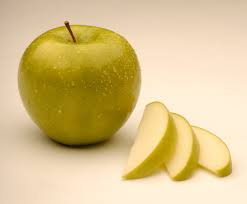apple: (17, 26, 141, 147)
